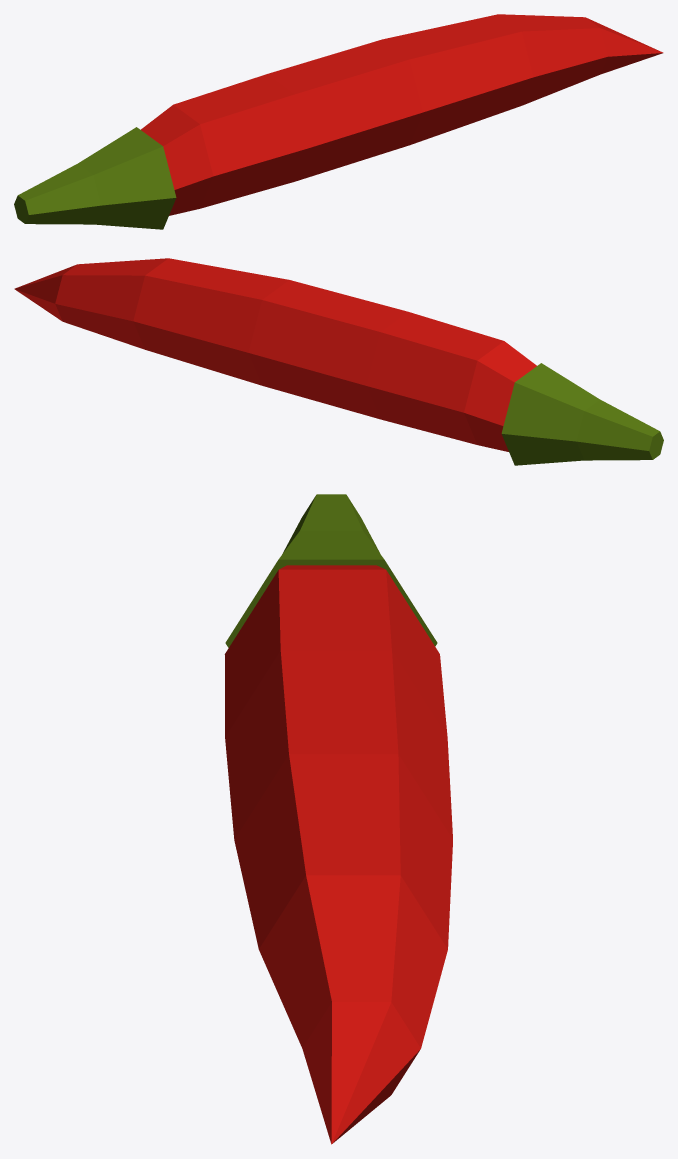
Rendered from SM_Cook_Chili_02.fbx.
3 renders of one model, top to bottom at view 1: azimuth 30°, elevation 25°; view 2: azimuth 150°, elevation 25°; view 3: azimuth 270°, elevation 25°, orthographic. The views are drawn at different scales.
Visible parts, largest first — view 1: SM_Cook_Chili_02; view 2: SM_Cook_Chili_02; view 3: SM_Cook_Chili_02.
Boxes of the visible parts, left/top/right/bottom form: SM_Cook_Chili_02: left=14, top=14, right=663, bottom=229; SM_Cook_Chili_02: left=14, top=258, right=663, bottom=465; SM_Cook_Chili_02: left=224, top=494, right=452, bottom=1144.
Bounding box in the file's own units: 0.08 × 0.0128 × 0.0123.
Materials: 1 (1 with a texture image).
